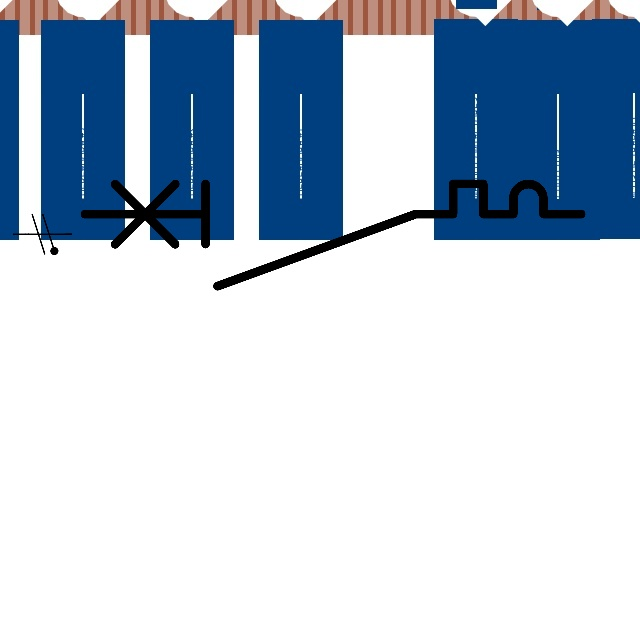interruptor_termomagnetico: (72, 171, 594, 299)
